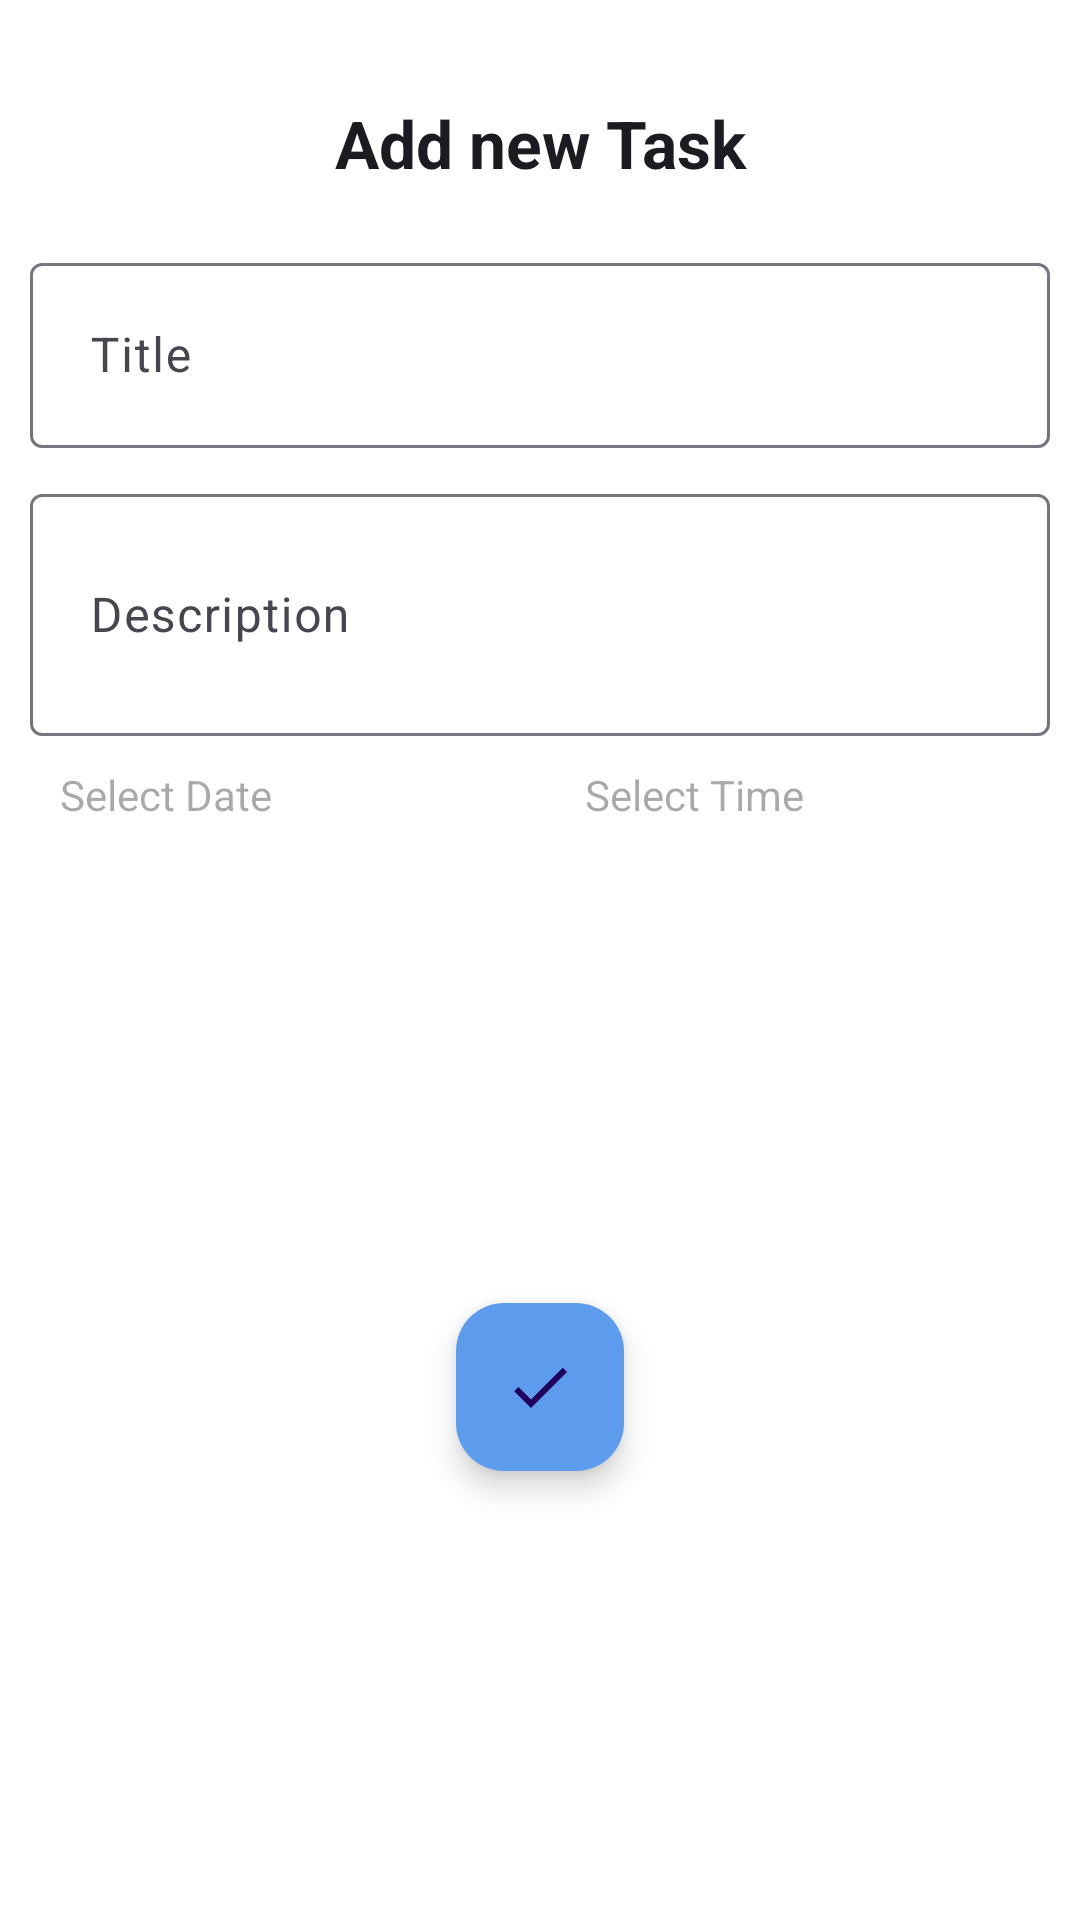

Screen size 1080w x 1920h. Icon name, then its center in pixels as (x=x, y=y):
check: (x=540, y=1387)
